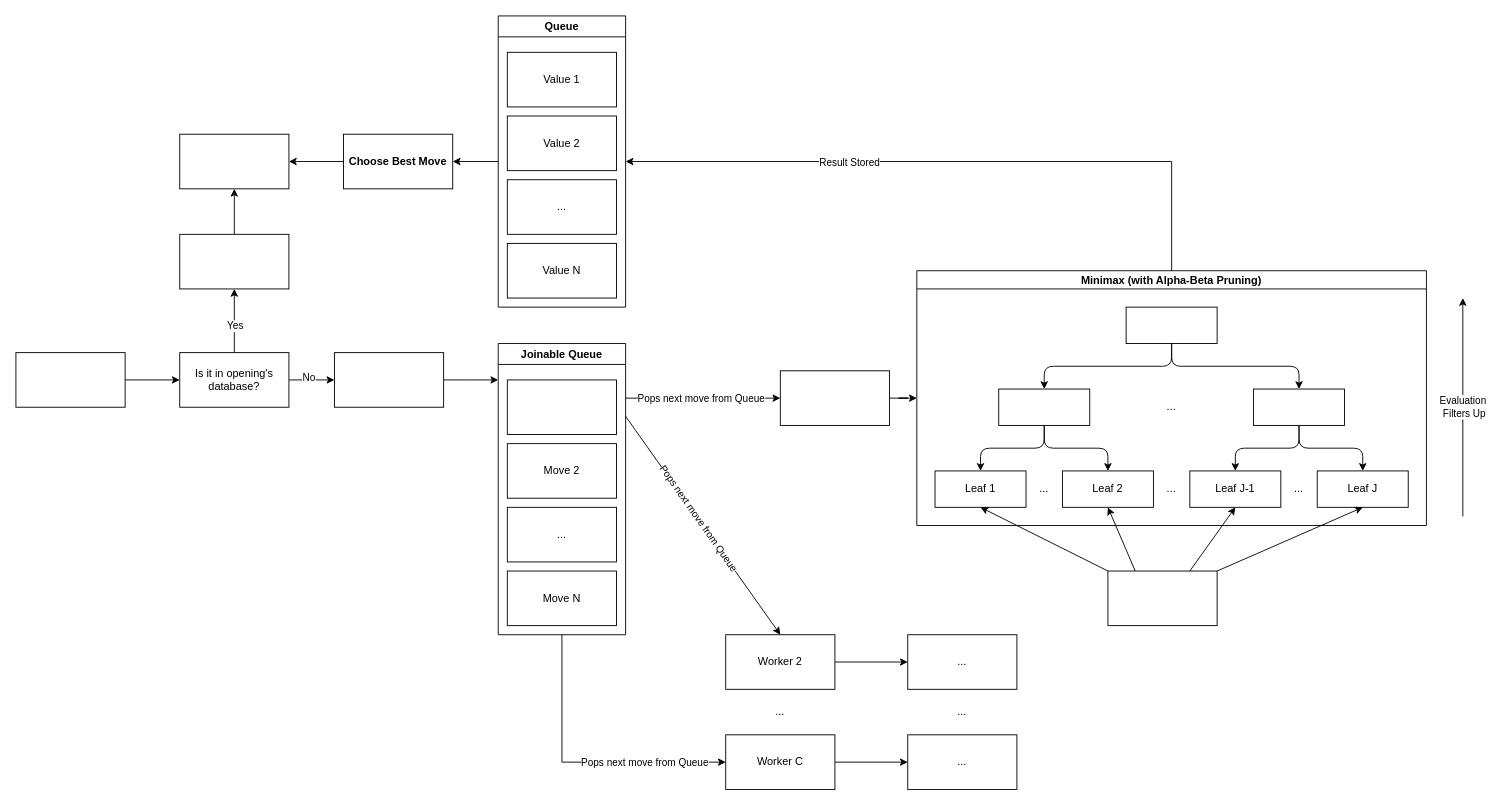
This 1502x805 diagram has some shape labels left out. Each missing label, with the centre of its shape:
"Accept Board" belongs at pixel 70 379.
"Choose random theoretical move" belongs at pixel 234 261.
"Evaluation with CNN and static heuristics" belongs at pixel 1162 598.
"Generate legal moves" belongs at pixel 389 379.
"Move 1" belongs at pixel 561 407.
"Pos 1" belongs at pixel 1044 406.
"Pos I" belongs at pixel 1299 406.
"Return Move" belongs at pixel 234 161.
"Root" belongs at pixel 1171 325.
"Worker 1" belongs at pixel 834 397.
